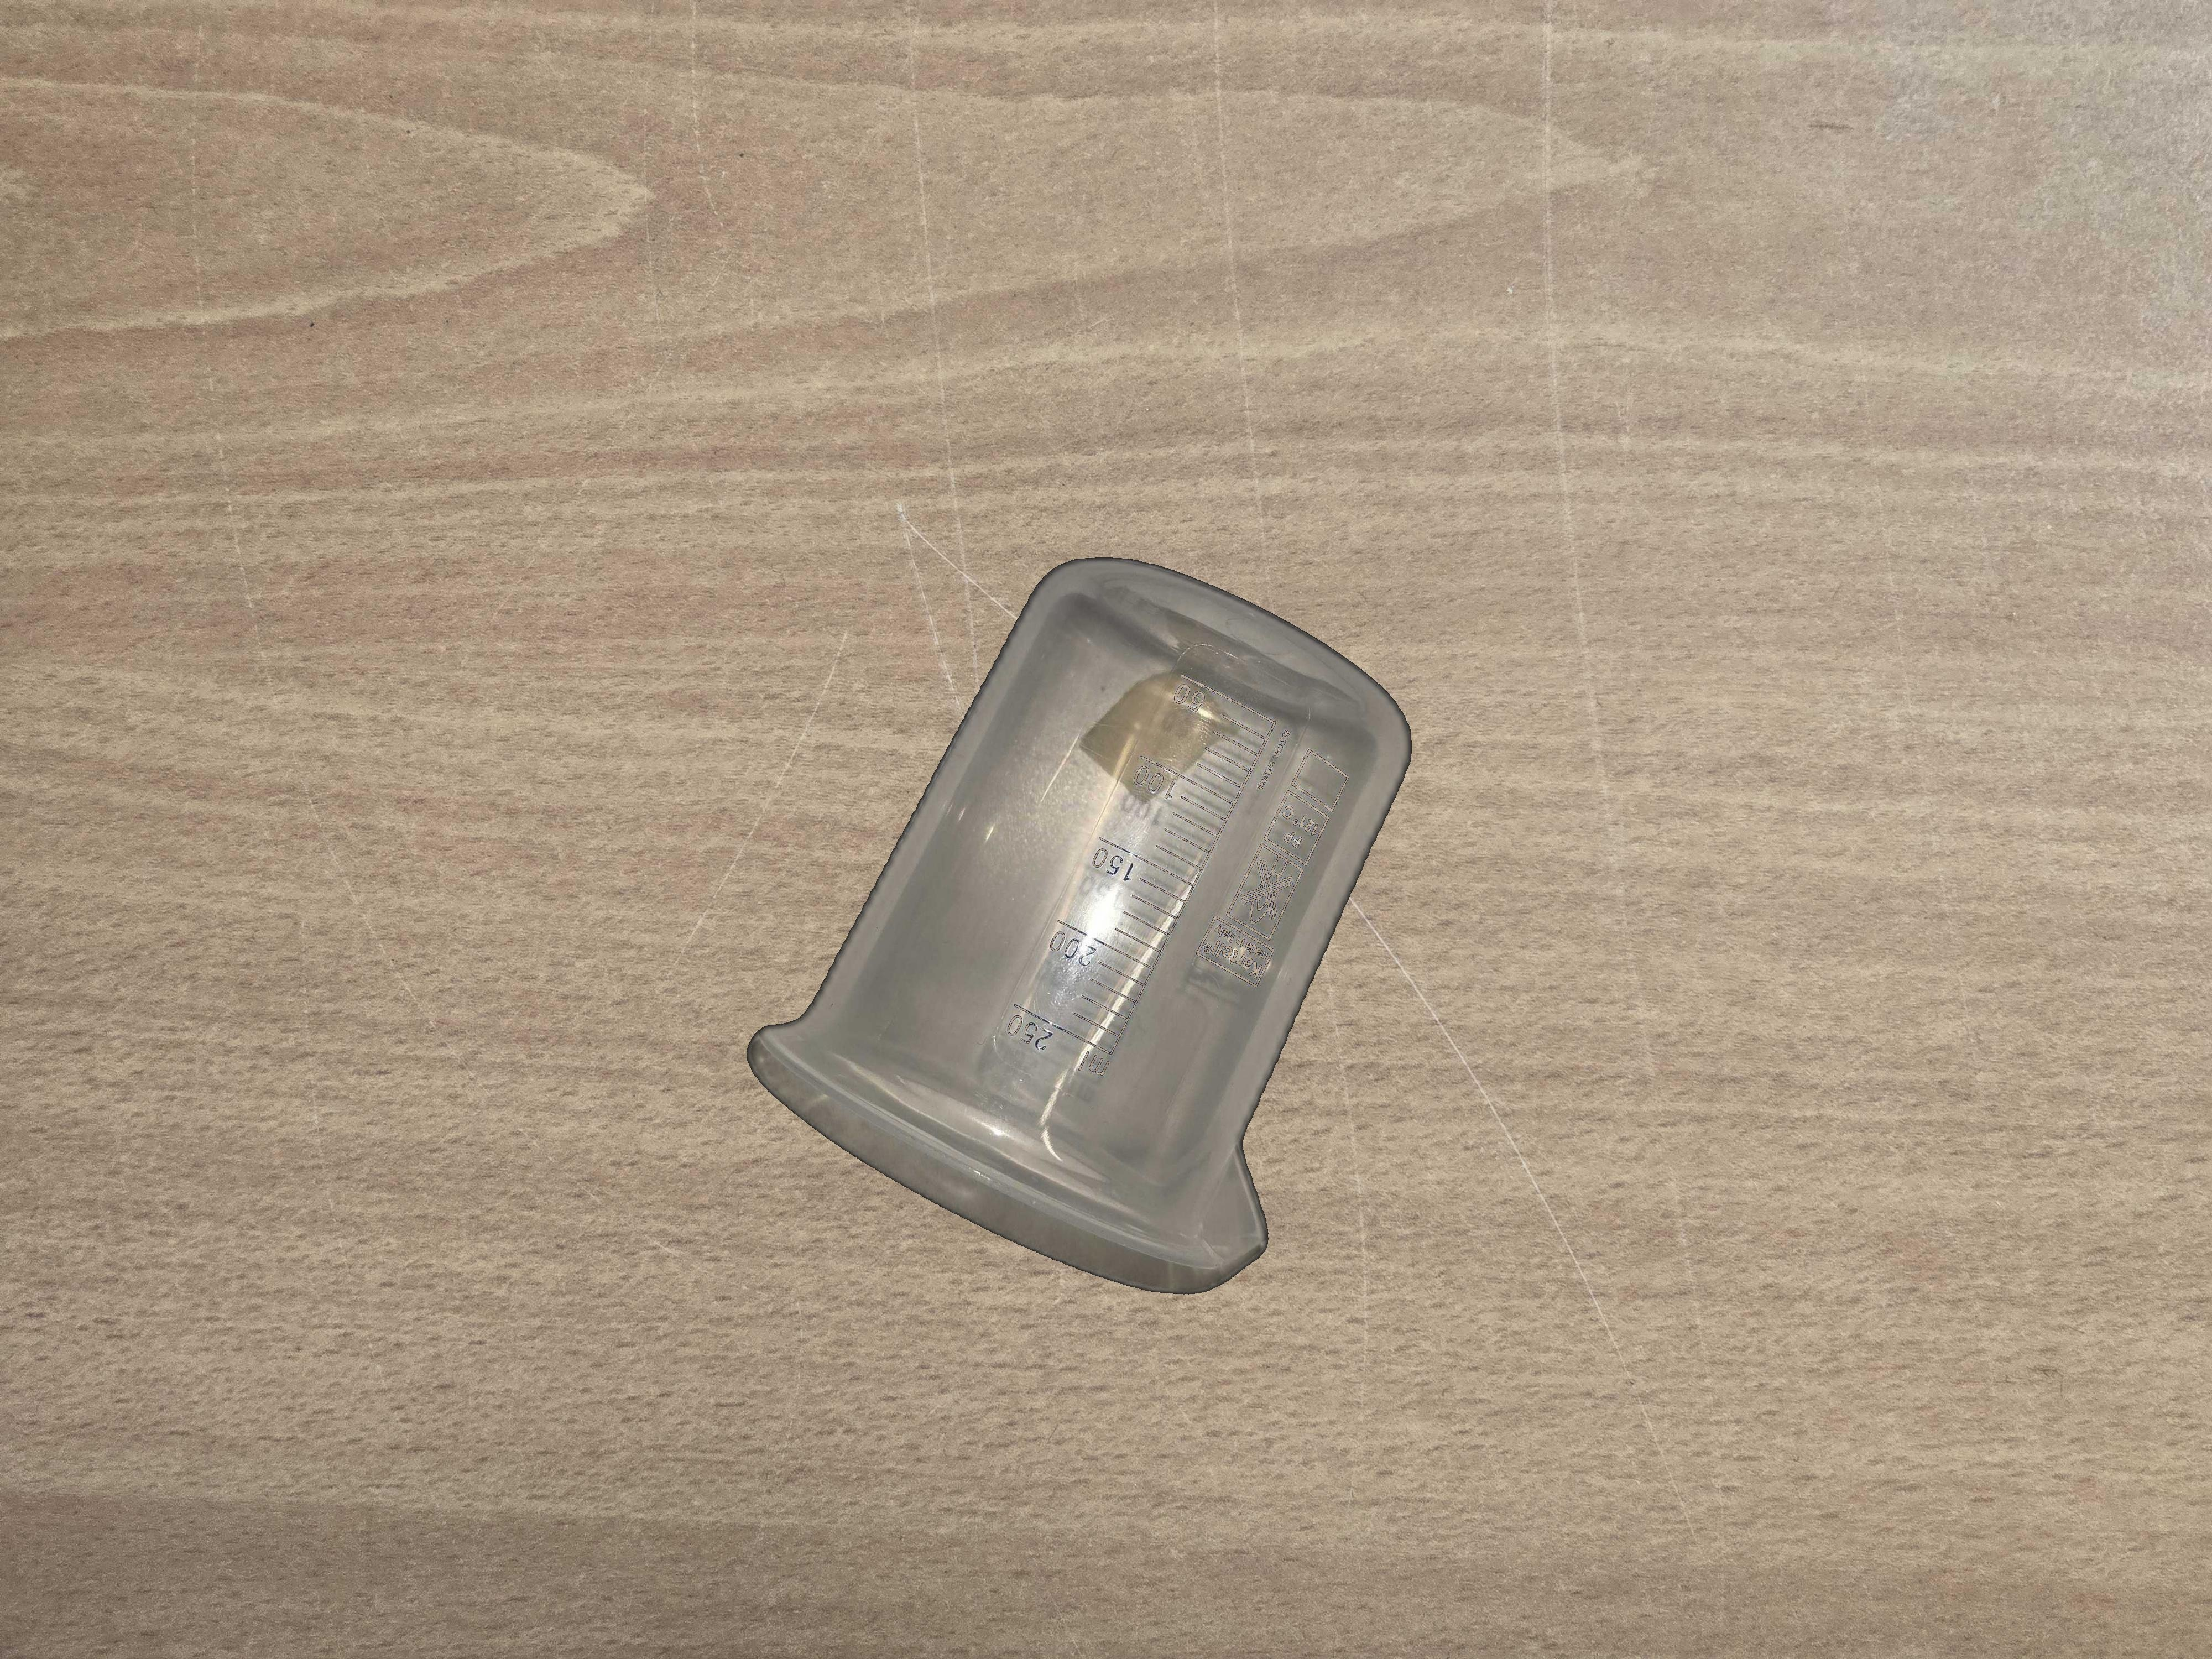becker: (744, 552, 1413, 1298)
